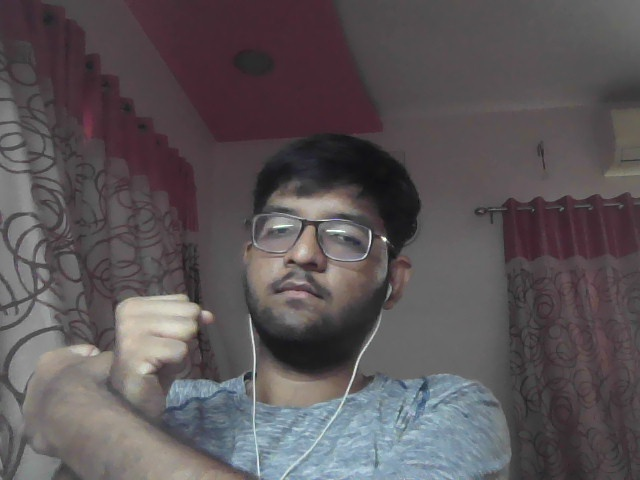પ્રેમ: (6, 285, 255, 480)
